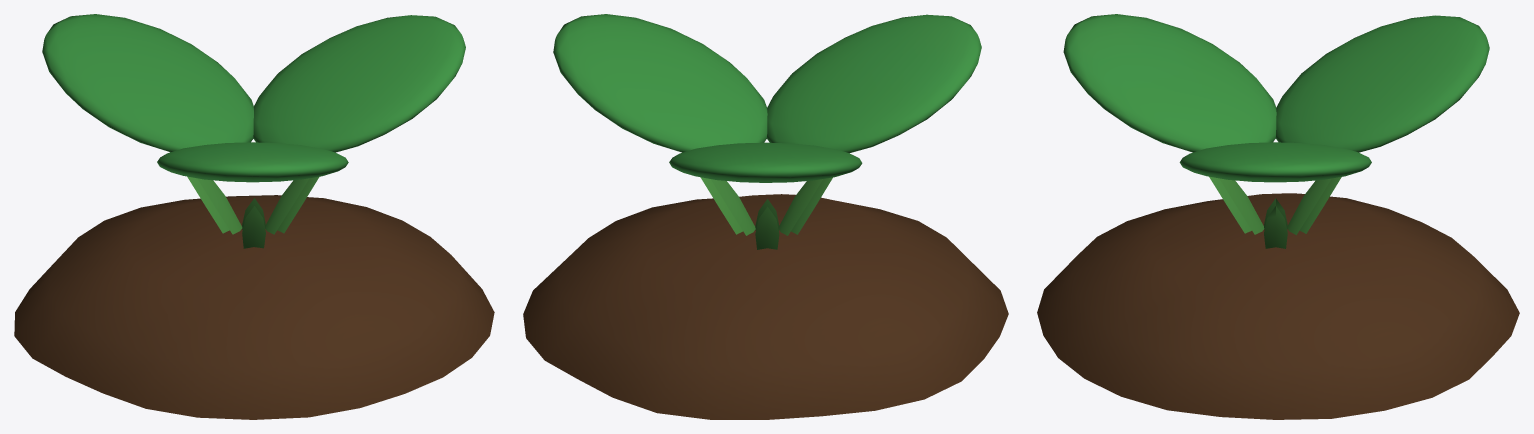
Rendered from strawberry-1.glb.
3 views of the same model, side by side, from view 1: azimuth 30°, elevation 25°; view 2: azimuth 150°, elevation 25°; view 3: azimuth 270°, elevation 25° (orthographic).
Parts seen in each view (by area): view 1: strawberry-1; view 2: strawberry-1; view 3: strawberry-1.
Part boxes in pixels (box(x1,y1,x2,y2)): strawberry-1: box(14, 14, 494, 419); strawberry-1: box(523, 14, 1008, 419); strawberry-1: box(1037, 14, 1519, 419).
Size of the model in its own units: 0.399 by 0.2272 by 0.4015.
